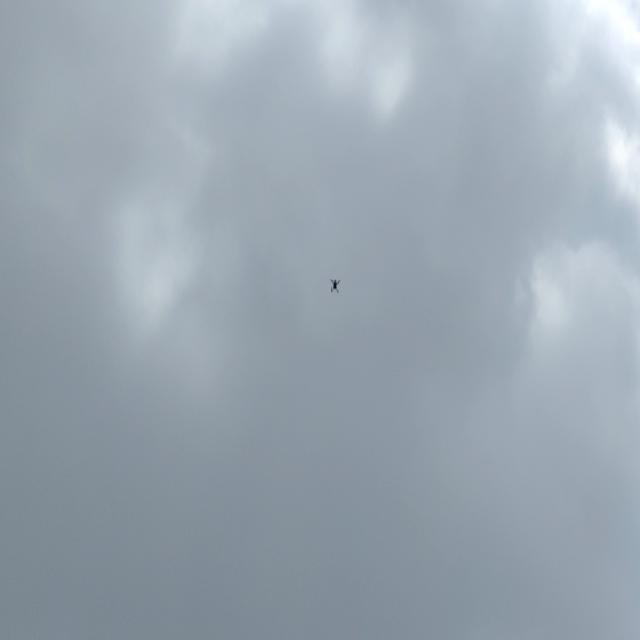drone: (326, 274, 346, 300)
